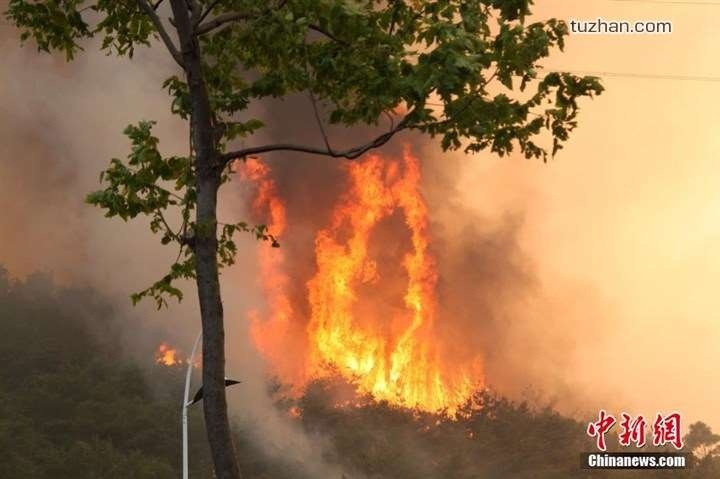fire: (258, 150, 486, 416), (153, 340, 179, 365)
